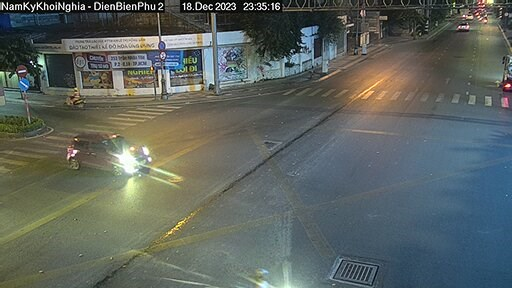car: (59, 117, 146, 189)
motorbike: (62, 83, 84, 108)
